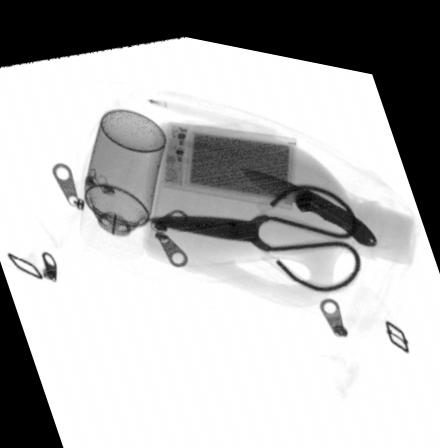Knife: (239, 158, 376, 231)
Powerbank: (160, 113, 293, 197)
Scissors: (143, 169, 362, 277)
Sprayer: (76, 102, 165, 256)
